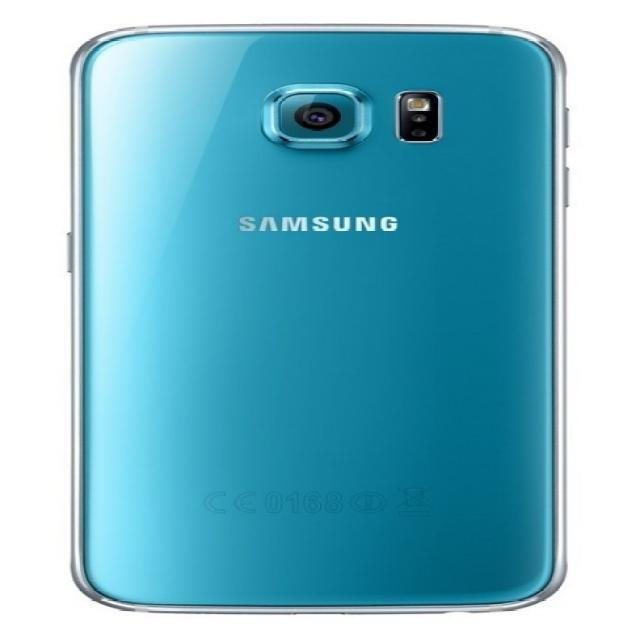phone: (60, 20, 578, 618)
